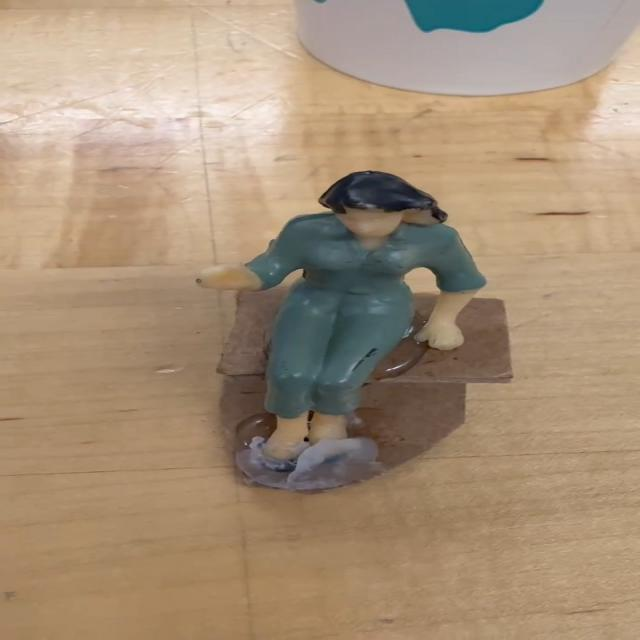Authorized: (202, 168, 502, 482)
